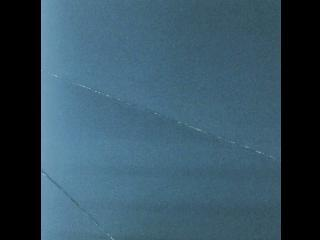crack: (42, 68, 281, 163), (41, 169, 115, 240)
